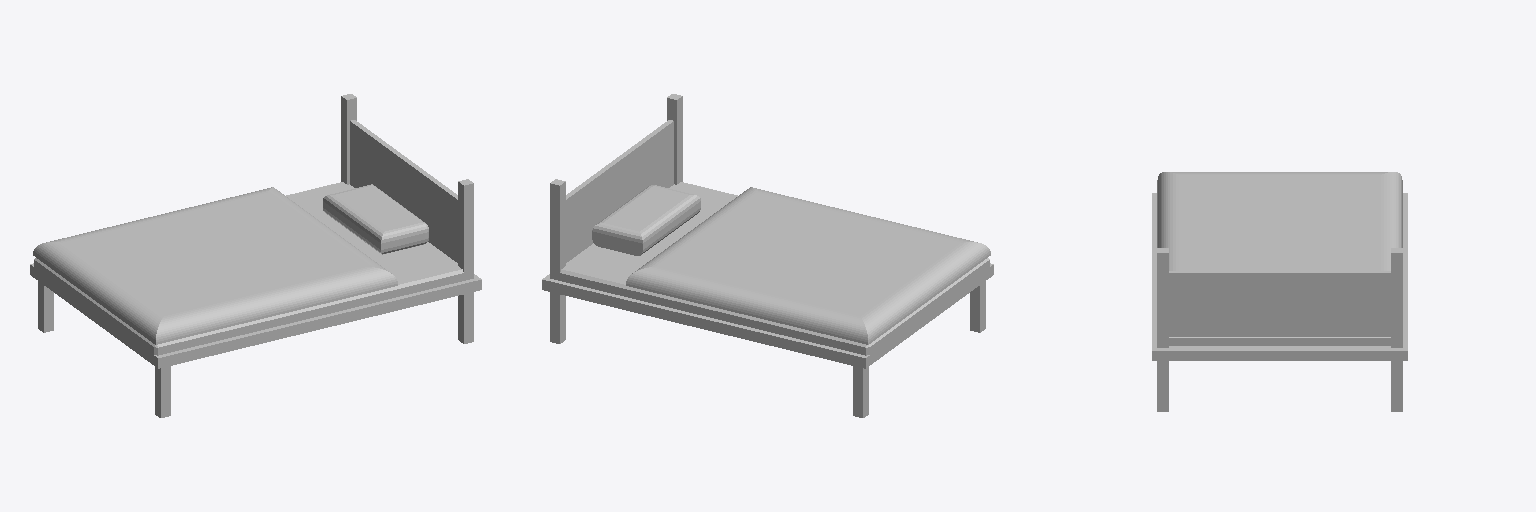
File: bett.obj
3 views of the same model, side by side, from view 1: azimuth 30°, elevation 25°; view 2: azimuth 150°, elevation 25°; view 3: azimuth 270°, elevation 25° (orthographic).
Parts seen in each view (by area): view 1: Box008, Box007, Box006, Box005, Box009, Box002, Box001, Box004, Box003; view 2: Box008, Box007, Box006, Box005, Box009, Box001, Box002, Box003, Box004; view 3: Box008, Box006, Box005, Box007, Box001, Box002.
Boxes of the visible parts, x1,y1,x2,y2 form: Box008: [33, 187, 397, 344]; Box007: [34, 182, 463, 355]; Box006: [350, 120, 457, 262]; Box005: [30, 251, 481, 368]; Box009: [323, 184, 428, 254]; Box002: [458, 179, 473, 343]; Box001: [341, 94, 356, 184]; Box004: [155, 366, 170, 417]; Box003: [38, 281, 53, 332]; Box008: [626, 187, 990, 344]; Box007: [558, 182, 989, 355]; Box006: [566, 120, 673, 262]; Box005: [542, 251, 993, 368]; Box009: [592, 185, 700, 255]; Box001: [550, 179, 565, 343]; Box002: [667, 94, 682, 184]; Box003: [853, 366, 868, 417]; Box004: [970, 281, 985, 332]; Box008: [1157, 172, 1402, 270]; Box006: [1169, 271, 1390, 336]; Box005: [1152, 193, 1407, 360]; Box007: [1169, 337, 1390, 345]; Box001: [1391, 248, 1402, 411]; Box002: [1157, 248, 1168, 411].
Size of the model in its own units: 126 by 59.06 by 86.61.